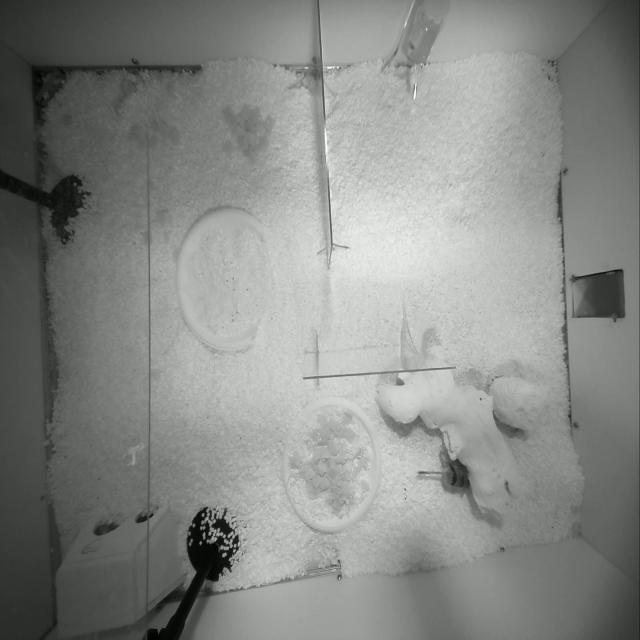pup_h_stripe: (417, 460, 470, 489)
